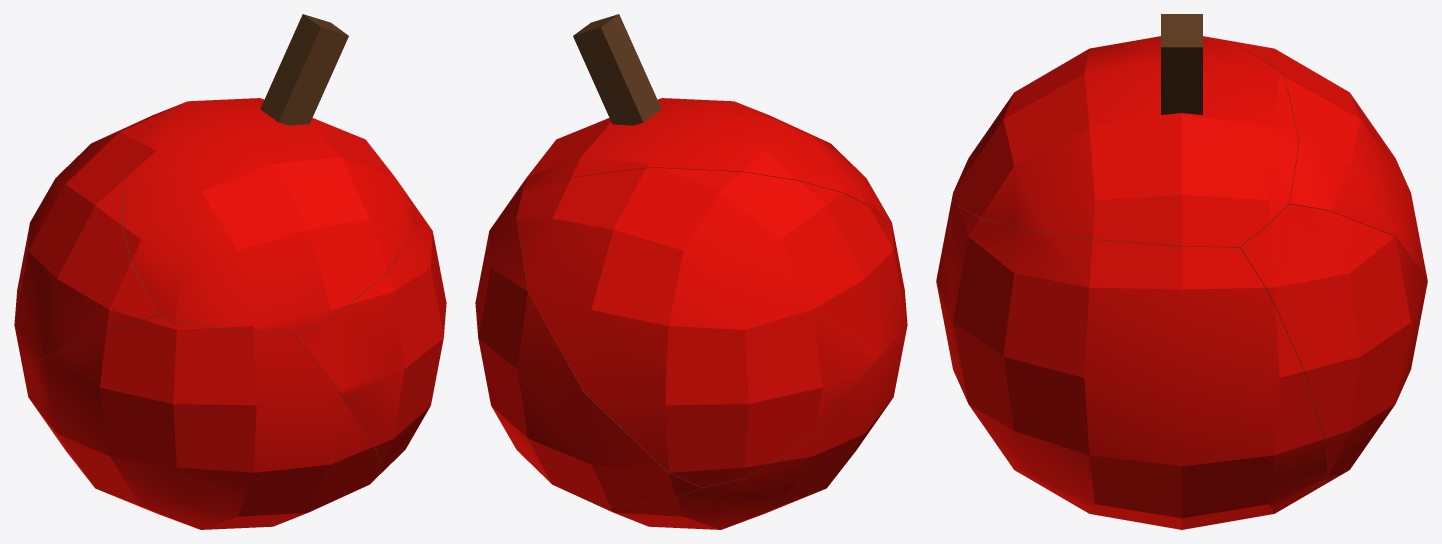
Rendered from red_apple.glb.
The picture shows the model from 3 angles, left to right: view 1: azimuth 30°, elevation 25°; view 2: azimuth 150°, elevation 25°; view 3: azimuth 270°, elevation 25°; orthographic projection. The views are drawn at different scales.
Parts seen in each view (by area): view 1: Cube.001_cell.002, Cube.001_cell.005, Cube.001_cell.003, Cube.001_cell.001, Cube.001_cell; view 2: Cube.001_cell.003, Cube.001_cell.004, Cube.001_cell.005, Cube.001_cell.002, Cube.001_cell; view 3: Cube.001_cell.001, Cube.001_cell.005, Cube.001_cell.004, Cube.001_cell.003, Cube.001_cell, Cube.001_cell.002.
Part boxes in pixels (left/top/right/bottom): Cube.001_cell.002: left=23, top=315, right=381, bottom=529; Cube.001_cell.005: left=122, top=98, right=413, bottom=333; Cube.001_cell.003: left=14, top=102, right=184, bottom=372; Cube.001_cell.001: left=293, top=202, right=446, bottom=472; Cube.001_cell: left=260, top=14, right=348, bottom=125; Cube.001_cell.003: left=516, top=168, right=897, bottom=487; Cube.001_cell.004: left=476, top=192, right=701, bottom=506; Cube.001_cell.005: left=517, top=98, right=888, bottom=223; Cube.001_cell.002: left=587, top=216, right=907, bottom=529; Cube.001_cell: left=573, top=14, right=661, bottom=125; Cube.001_cell.001: left=936, top=201, right=1327, bottom=524; Cube.001_cell.005: left=951, top=36, right=1298, bottom=246; Cube.001_cell.004: left=1239, top=204, right=1427, bottom=482; Cube.001_cell.003: left=1230, top=41, right=1427, bottom=280; Cube.001_cell: left=1161, top=14, right=1202, bottom=115; Cube.001_cell.002: left=936, top=278, right=1335, bottom=529.
Bounding box in the file's own units: 1.68 × 2.02 × 1.68.
